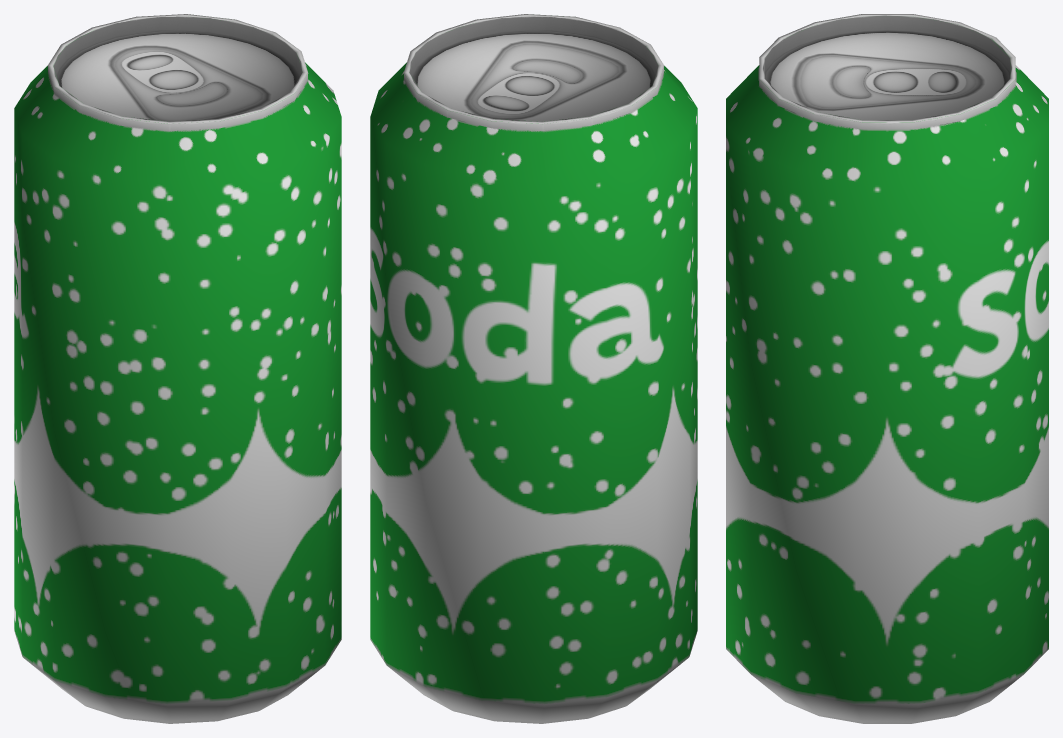
The model's file is sodagreen_001.glb.
3 renders of one model, left to right at view 1: azimuth 30°, elevation 25°; view 2: azimuth 150°, elevation 25°; view 3: azimuth 270°, elevation 25°, orthographic.
Visible parts, largest first — view 1: sodagreen.001; view 2: sodagreen.001; view 3: sodagreen.001.
Part boxes in pixels (x1,y1,x2,y2): sodagreen.001: (14, 14, 341, 723); sodagreen.001: (370, 14, 697, 723); sodagreen.001: (726, 14, 1048, 723).
Bounding box in the file's own units: 0.2196 × 0.4538 × 0.2196.
Materials: 1 (1 with a texture image).
